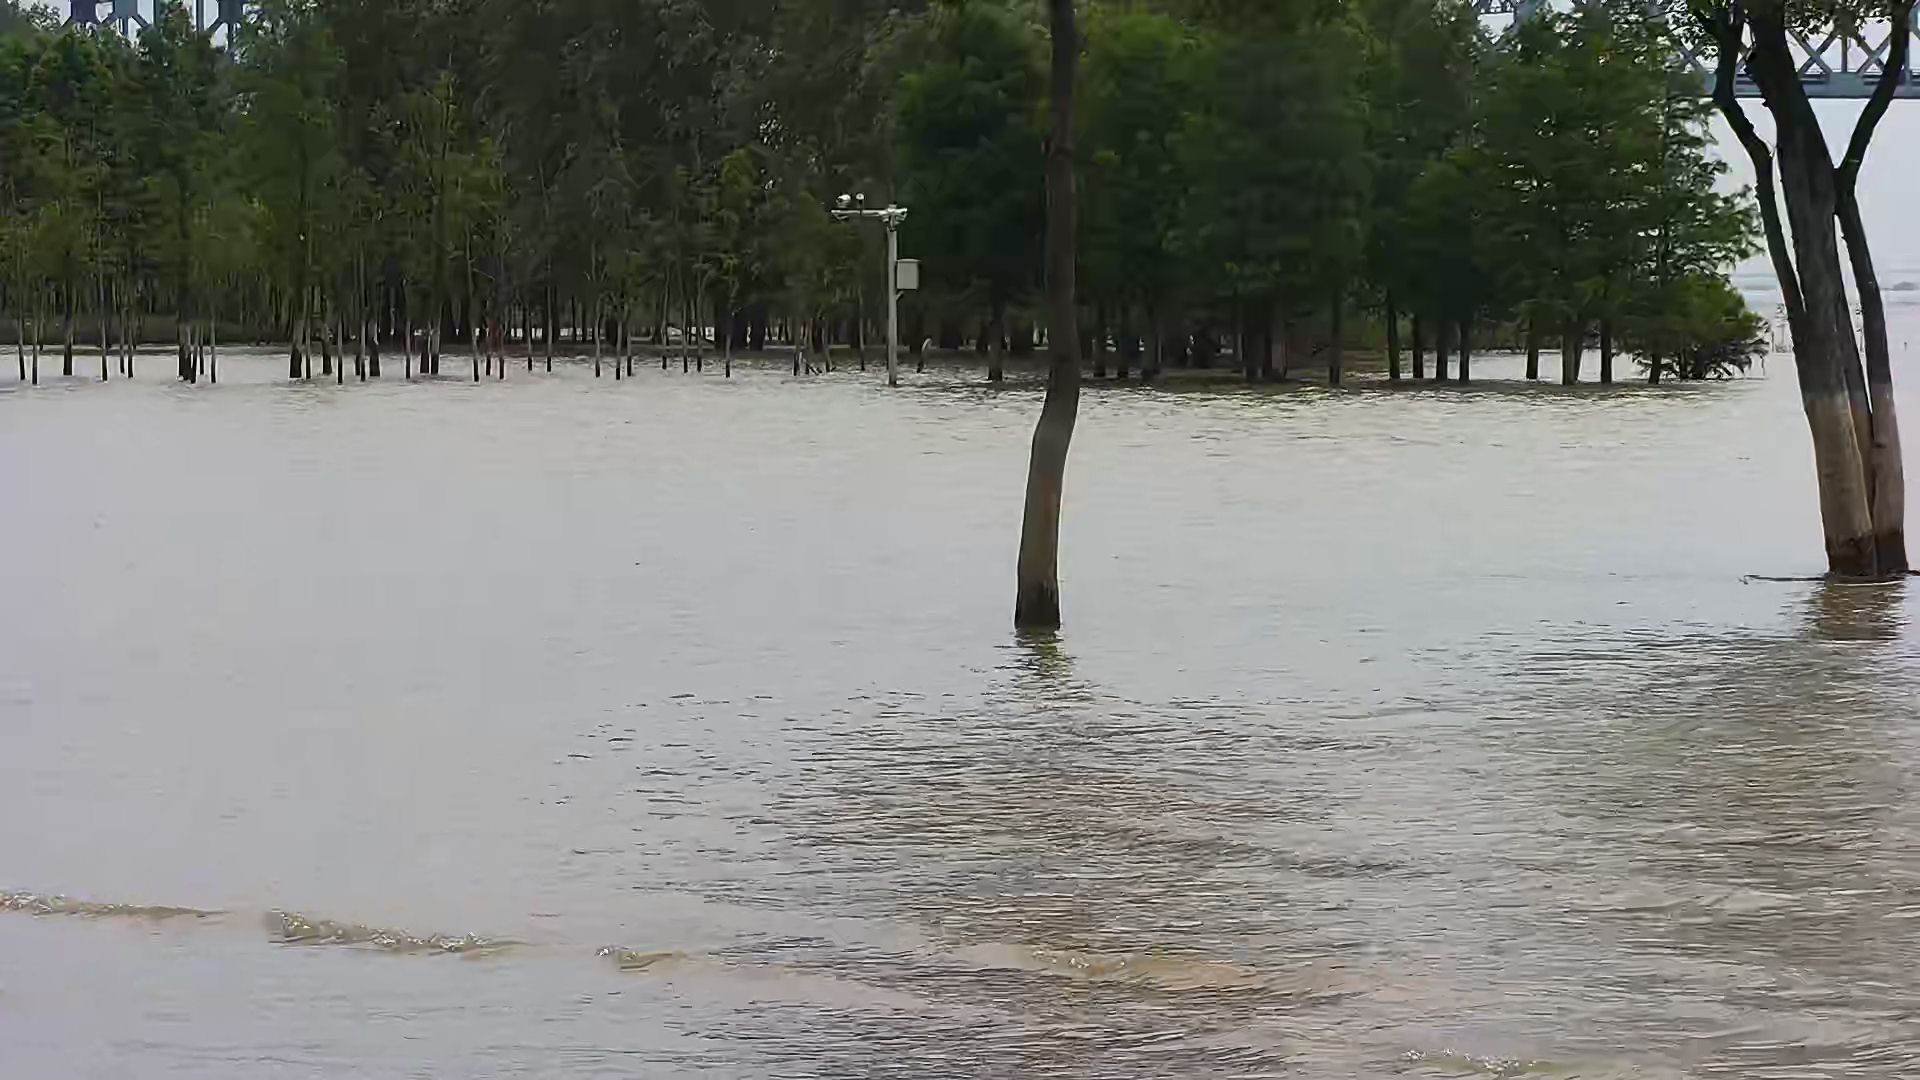mast: (828, 193, 919, 384)
tree: (1684, 3, 1920, 576), (1491, 3, 1768, 390), (698, 4, 934, 380), (458, 4, 688, 380), (237, 7, 456, 380), (1175, 4, 1364, 396), (1044, 1, 1215, 384), (1342, 4, 1501, 385), (891, 11, 1050, 389), (88, 26, 235, 385), (1015, 7, 1087, 642), (3, 37, 84, 386)
